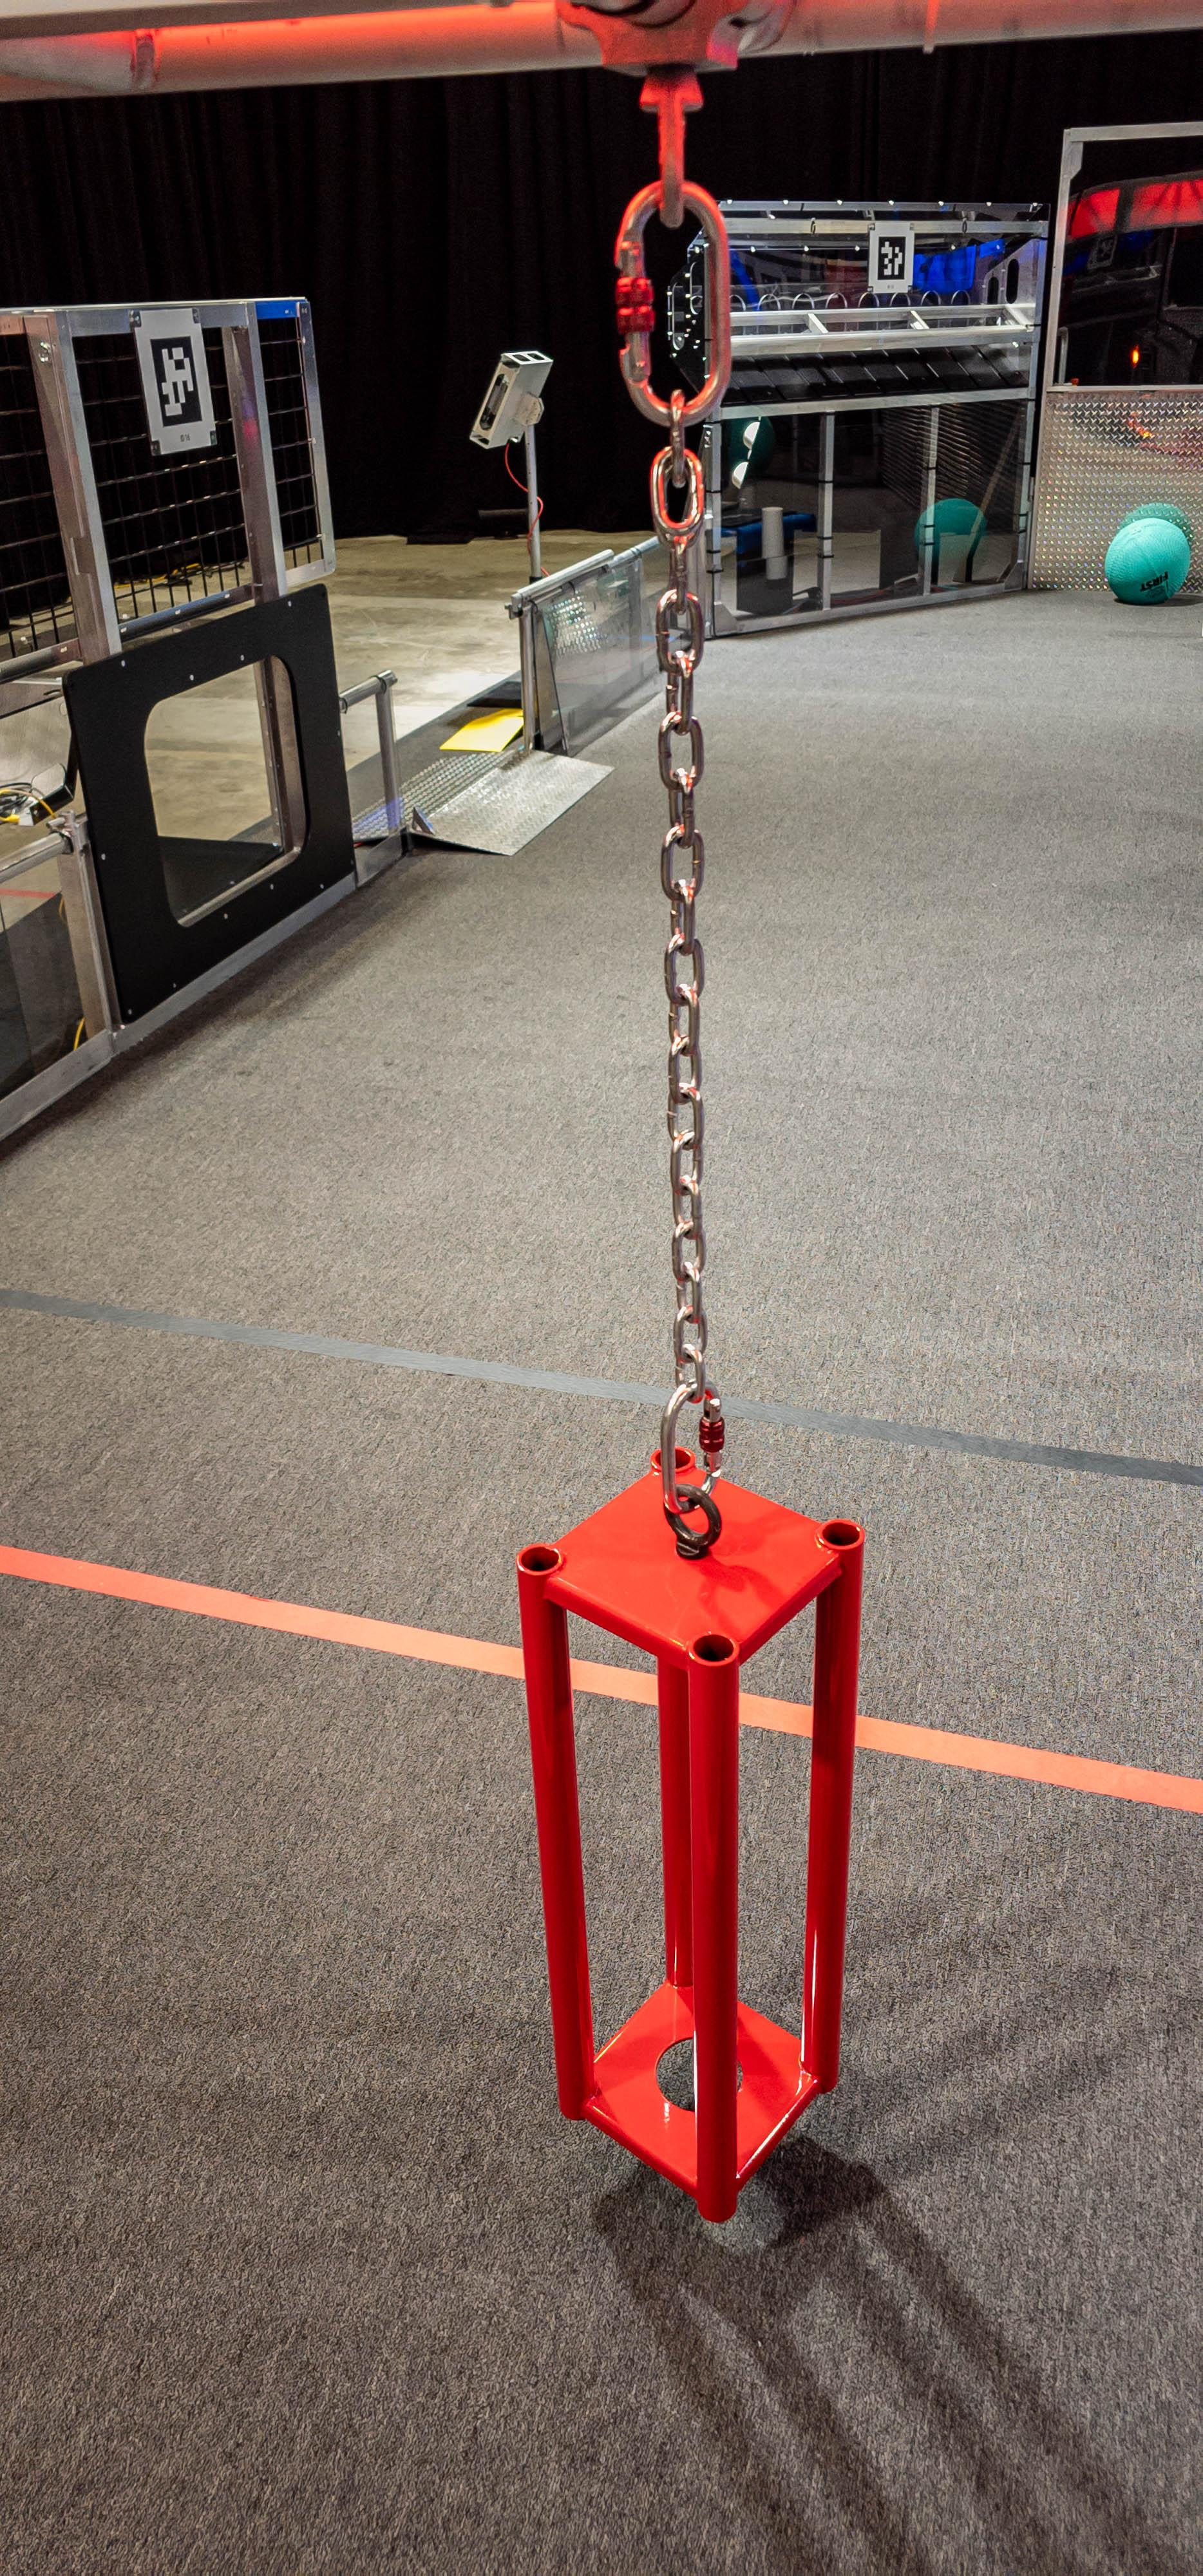ALGAE: (1106, 519, 1190, 605)
